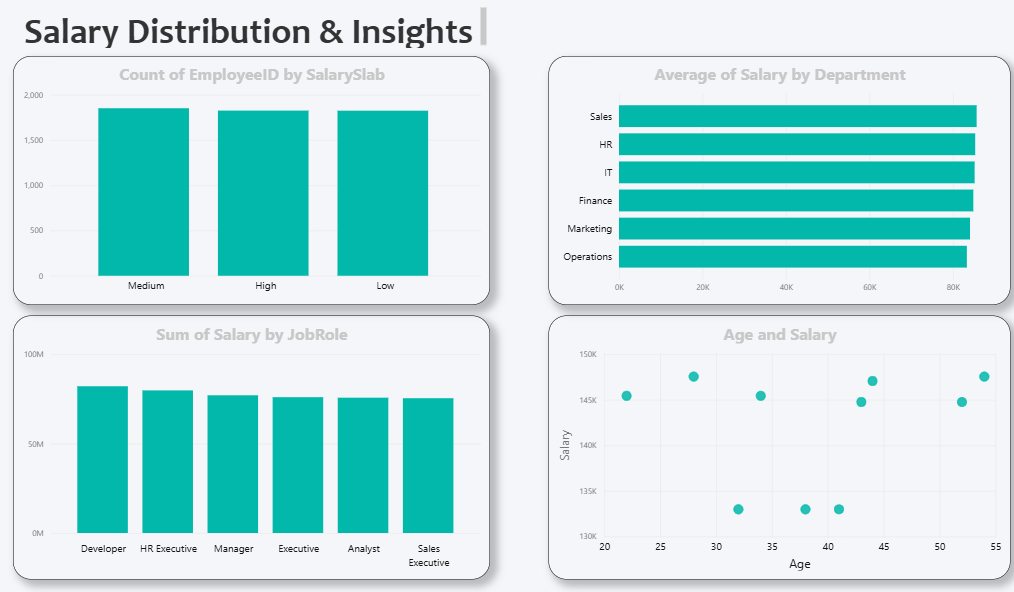

What the dashboard file says about the page in this screenshot:
{"tool":"powerbi","page":{"name":"Salary Analysis","canvas":[1379,804],"ordinal":3},"visuals":[{"type":"textbox","box":[32,14,636,64],"z":0},{"type":"columnChart","fields":{"Category":["PowerBI_Employee_5000_Data.SalarySlab"],"Y":["CountNonNull(PowerBI_Employee_5000_Data.EmployeeID)"]},"box":[32,84,636,332],"z":1000},{"type":"barChart","fields":{"Category":["PowerBI_Employee_5000_Data.Department"],"Y":["Avg(PowerBI_Employee_5000_Data.Salary)"]},"box":[746,84,616,332],"z":2000},{"type":"columnChart","fields":{"Category":["PowerBI_Employee_5000_Data.JobRole"],"Y":["Sum(PowerBI_Employee_5000_Data.Salary)"]},"box":[32,430,636,352],"z":3000},{"type":"scatterChart","fields":{"X":["PowerBI_Employee_5000_Data.Age"],"Y":["PowerBI_Employee_5000_Data.Salary"]},"box":[746,430,616,352],"z":4000}]}

Visuals, with their boxes in screenshot pixels (x1, y1, x2, y2), scaled from the page's 1379x804 canvas onto the 1014x592 screenshot:
textbox: [x1=24, y1=10, x2=491, y2=57]
columnChart - PowerBI_Employee_5000_Data.SalarySlab x CountNonNull(PowerBI_Employee_5000_Data.EmployeeID): [x1=24, y1=62, x2=491, y2=306]
barChart - PowerBI_Employee_5000_Data.Department x Avg(PowerBI_Employee_5000_Data.Salary): [x1=549, y1=62, x2=1001, y2=306]
columnChart - PowerBI_Employee_5000_Data.JobRole x Sum(PowerBI_Employee_5000_Data.Salary): [x1=24, y1=317, x2=491, y2=576]
scatterChart - PowerBI_Employee_5000_Data.Age x PowerBI_Employee_5000_Data.Salary: [x1=549, y1=317, x2=1001, y2=576]
